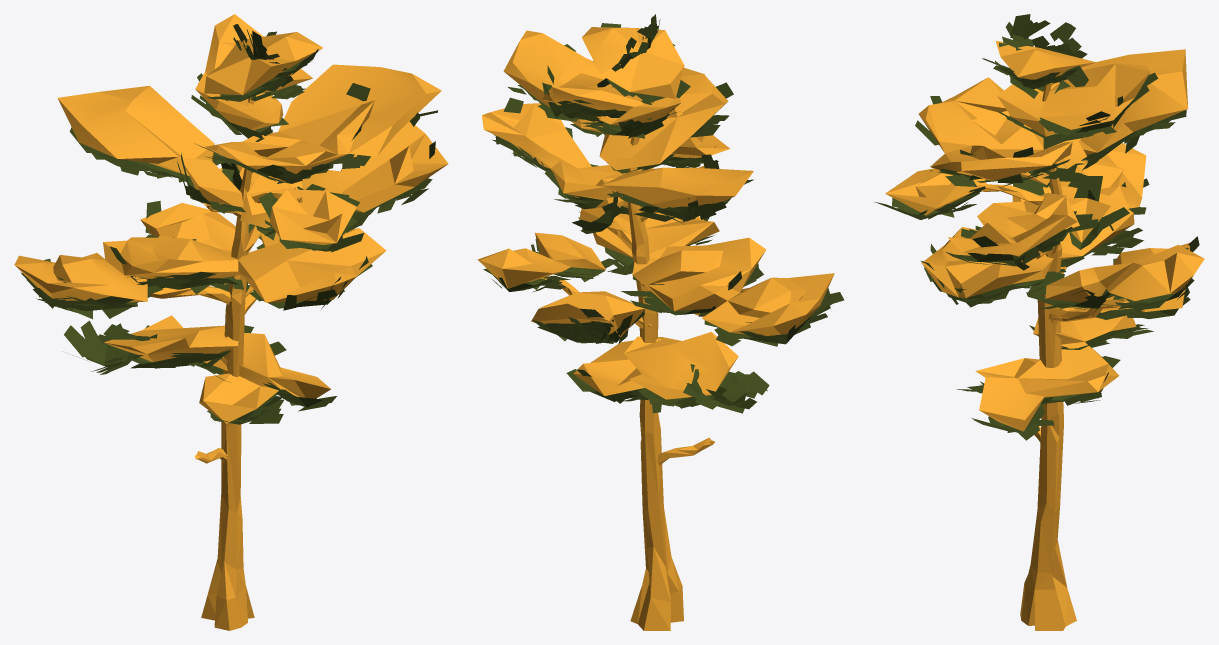
The model's file is SM_Tree_Pine_Young_A_Snow.fbx.
The picture shows the model from 3 angles, left to right: view 1: azimuth 30°, elevation 25°; view 2: azimuth 150°, elevation 25°; view 3: azimuth 270°, elevation 25°; orthographic projection. The views are drawn at different scales.
Visible parts, largest first — view 1: tree-pine-young-a-snow; view 2: tree-pine-young-a-snow; view 3: tree-pine-young-a-snow.
Boxes of the visible parts, bbox=[...] form: tree-pine-young-a-snow: bbox=[14, 14, 448, 630]; tree-pine-young-a-snow: bbox=[477, 14, 844, 630]; tree-pine-young-a-snow: bbox=[874, 14, 1204, 630].
Bounding box in the file's own units: 3.91 × 5.95 × 2.91.
